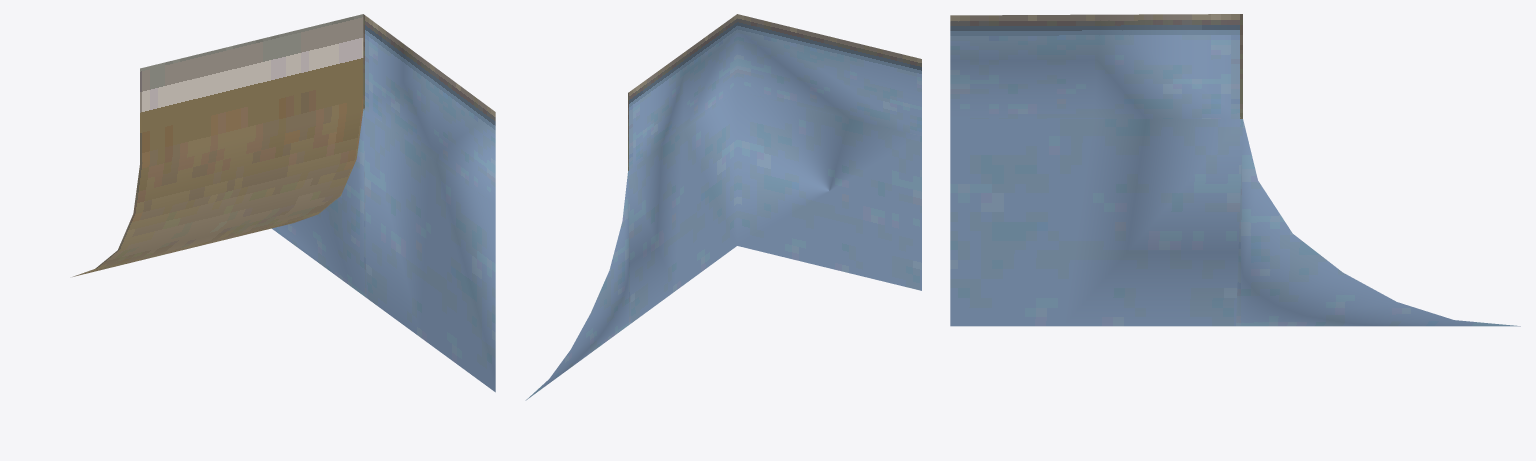
Rendered from ps2_save-icons_tonyhawksproskater3-park.glb.
3 renders of one model, left to right at view 1: azimuth 30°, elevation 25°; view 2: azimuth 150°, elevation 25°; view 3: azimuth 270°, elevation 25°, orthographic. The views are drawn at different scales.
Parts seen in each view (by area): view 1: parked.ico; view 2: parked.ico; view 3: parked.ico.
Part boxes in pixels (bbox=[...]): parked.ico: bbox=[73, 14, 495, 392]; parked.ico: bbox=[525, 14, 921, 400]; parked.ico: bbox=[950, 14, 1520, 326].
Bounding box in the file's own units: 2.13 × 2.57 × 4.27.
1 material, 1 textured.
